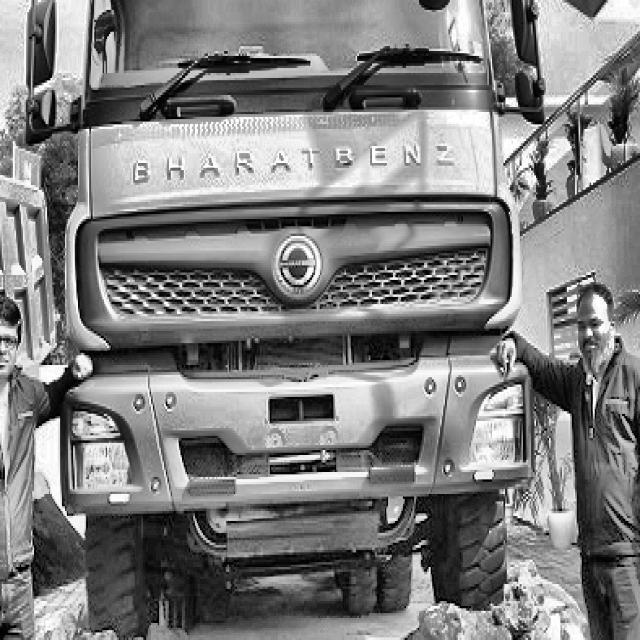dump_truck: (8, 0, 562, 621)
